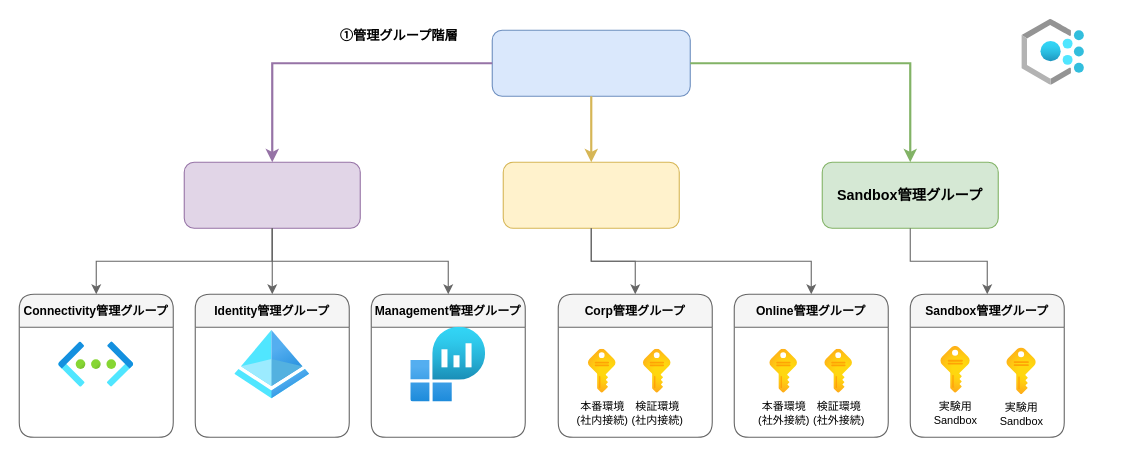
Some shapes in this 1123 by 457 pixel diagram are drawn without their labels. Here are the shapes that lost their labels. From the top down, the centre of each, then its label:
point 590,62: 中間ルート管理グループ （会社名など）
point 1053,52: ④Azureポリシー （約200個）
point 271,194: Platform管理グループ
point 590,194: Landing Zones 管理グループ
point 95,364: ②ネットワークリソース
point 271,364: IDリソース
point 447,364: ③管理用リソース
